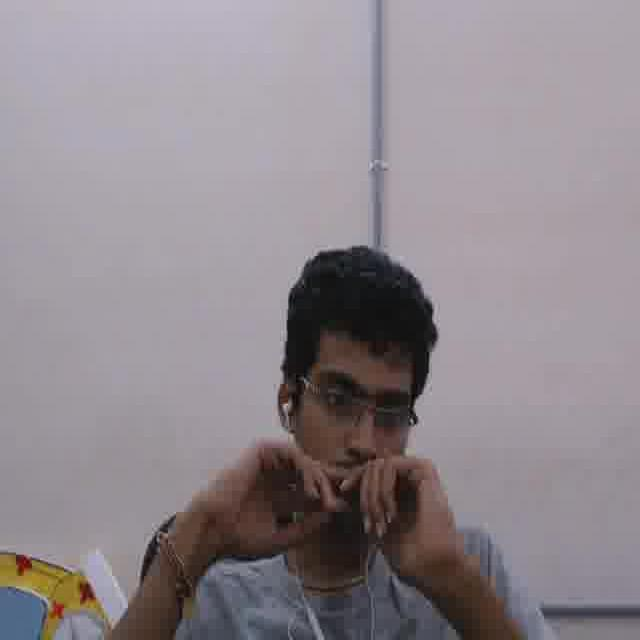Boredom: (294, 322, 413, 509)
